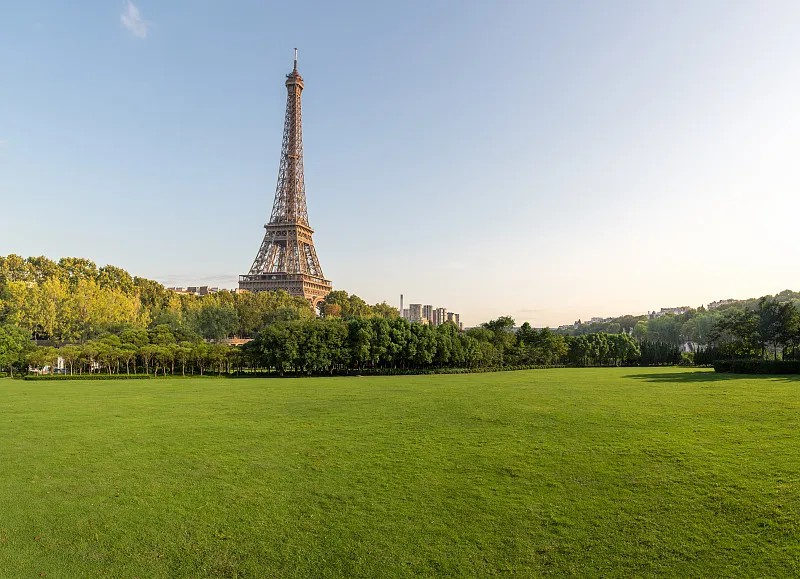Eiffel: (239, 48, 332, 313)
